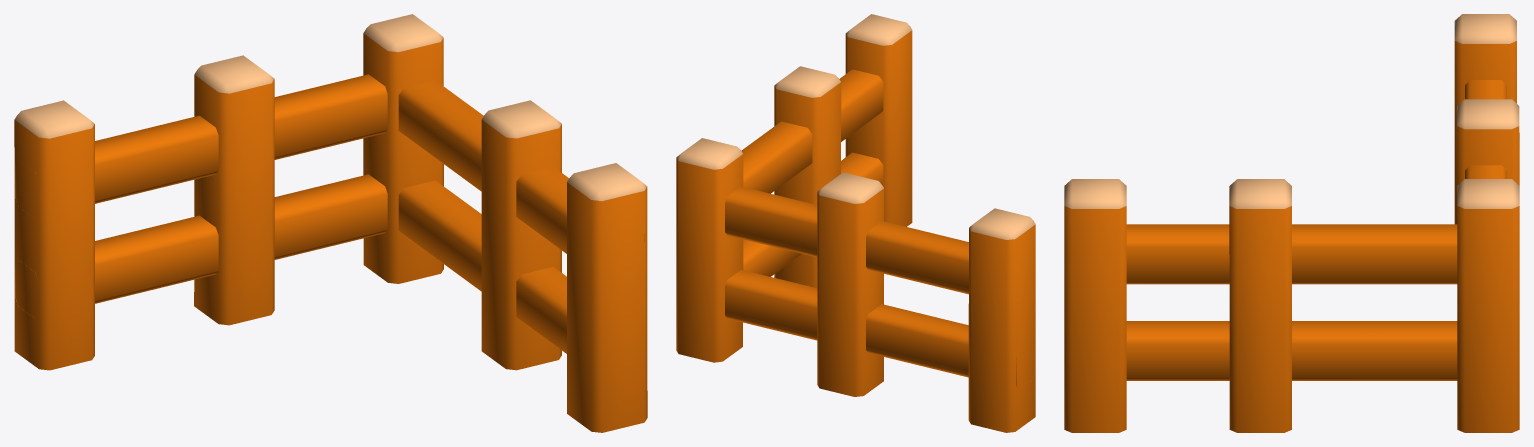
The model's file is Farm_Fence_C_02.fbx.
3 views of the same model, side by side, from view 1: azimuth 30°, elevation 25°; view 2: azimuth 150°, elevation 25°; view 3: azimuth 270°, elevation 25° (orthographic). The views are drawn at different scales.
Parts seen in each view (by area): view 1: Farm_Fence_C_02; view 2: Farm_Fence_C_02; view 3: Farm_Fence_C_02.
Boxes of the visible parts, x1,y1,x2,y2 form: Farm_Fence_C_02: (14,14,647,432); Farm_Fence_C_02: (676,14,1035,432); Farm_Fence_C_02: (1064,14,1519,432).
Size of the model in its own units: 178 by 100 by 179.
